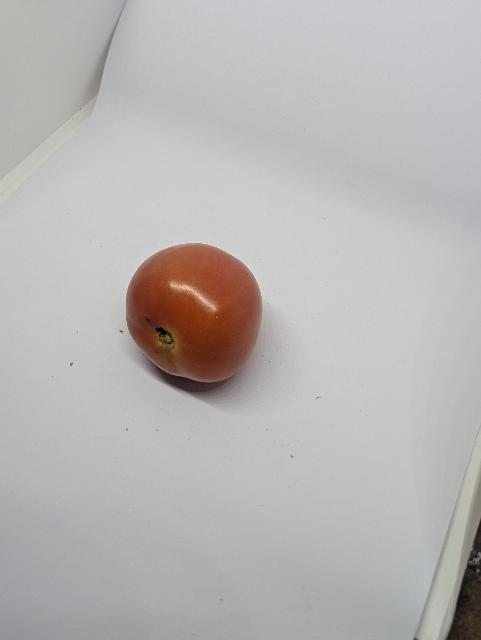red: (115, 235, 274, 396)
